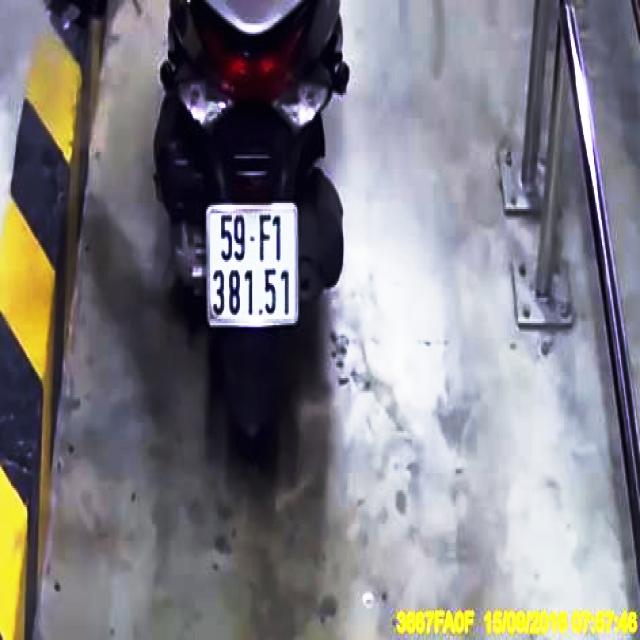license_plate: (207, 206, 300, 324)
